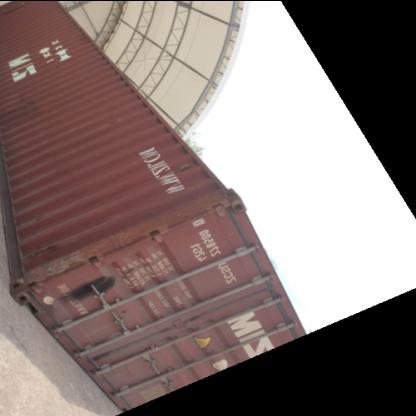Damage: (58, 272, 121, 318), (21, 246, 79, 284), (6, 83, 46, 135), (173, 154, 200, 180)
